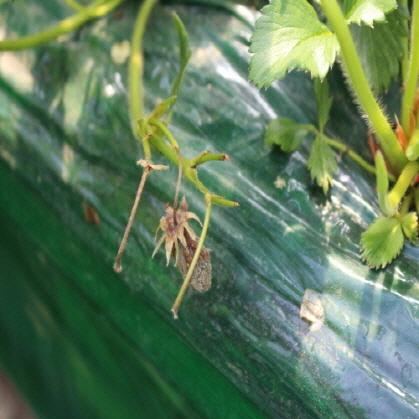Gray Mold: (151, 192, 213, 293)
